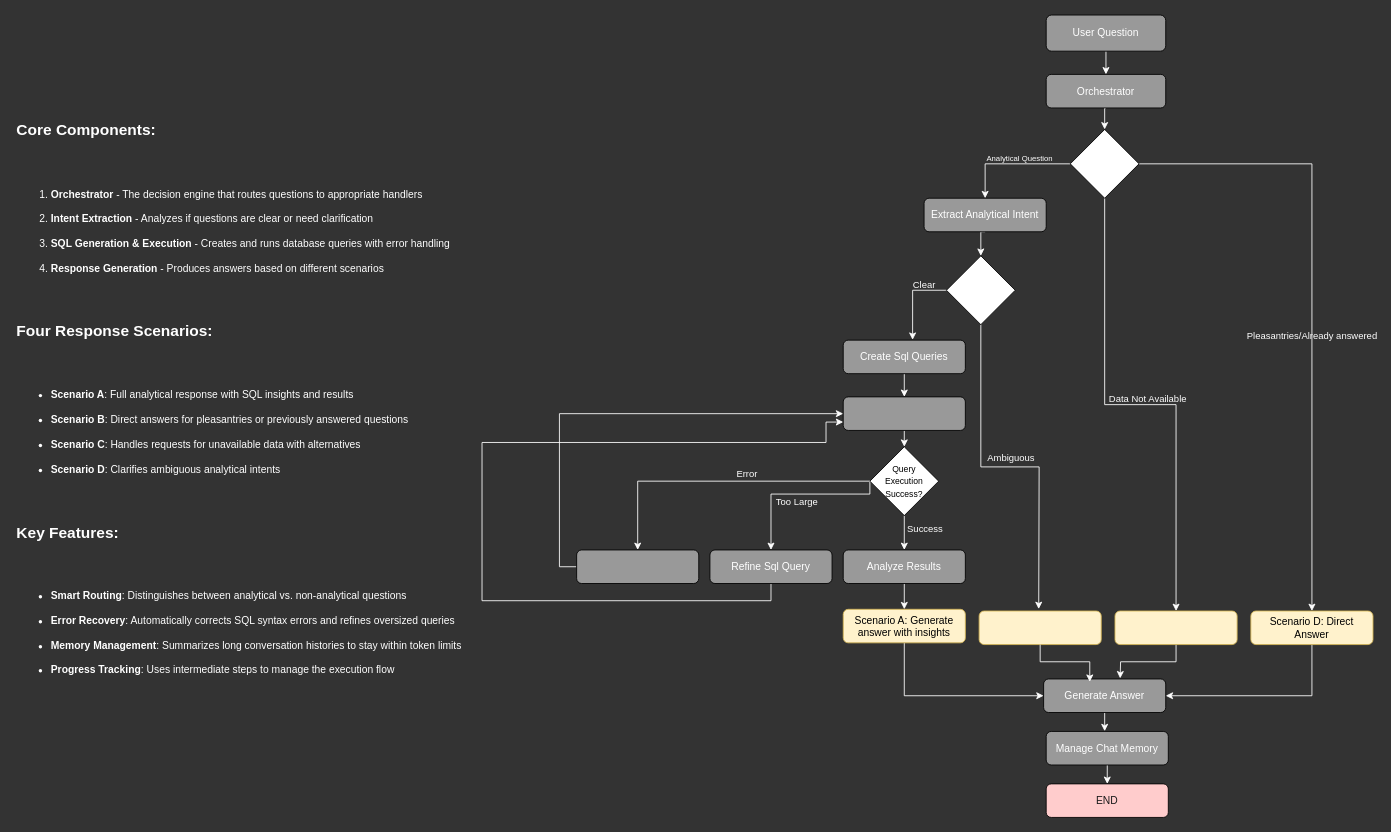
Image size: 1391x832. Some labels were removed from this diagram. The shapes that lost their labels are listed below. From the top down, each one's box as (x1, y1, x2, y2) in pixels, then its label:
(1069, 129, 1139, 198): Decision Point
(946, 255, 1015, 325): Intent Clear?
(842, 396, 965, 430): Execute Sql Queries
(576, 549, 699, 584): Correct Sql Syntax
(978, 610, 1101, 645): Scenario B: Clarify Intent
(1114, 610, 1237, 645): Scenario C: Data Not Available
